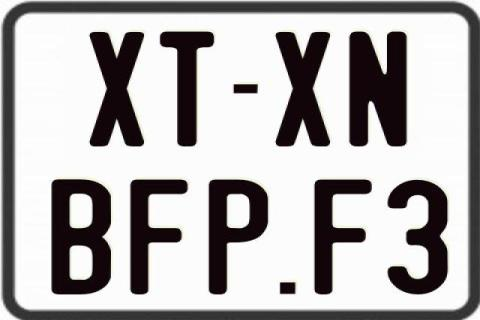0: (386, 178, 449, 296)
B: (50, 177, 112, 296)
F: (128, 177, 192, 297), (313, 177, 375, 293)
N: (346, 31, 410, 151)
P: (209, 178, 274, 296)
T: (160, 29, 218, 145)
X: (276, 31, 335, 148), (89, 30, 145, 148)
